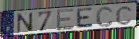7: (37, 10, 54, 33)
C: (96, 6, 115, 29), (115, 5, 134, 27)
E: (56, 7, 75, 32), (75, 7, 95, 29)
N: (16, 12, 34, 34)
